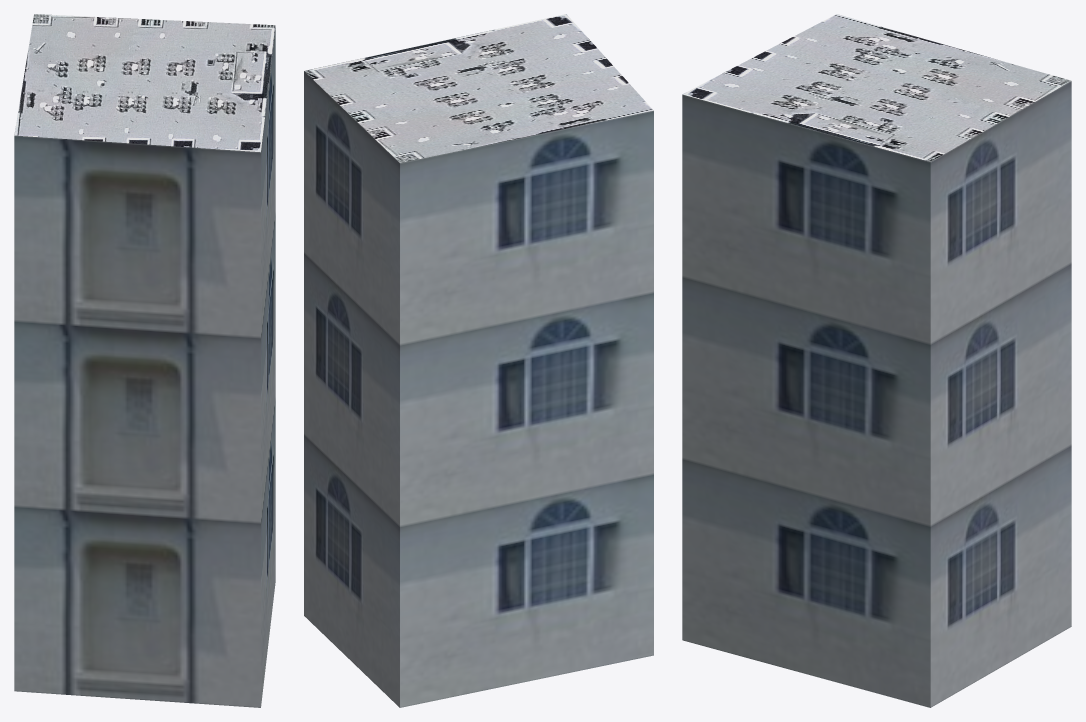
The model's file is ResTex__4495.fbx.
3 views of the same model, side by side, from view 1: azimuth 30°, elevation 25°; view 2: azimuth 150°, elevation 25°; view 3: azimuth 270°, elevation 25° (orthographic). The views are drawn at different scales.
Visible parts, largest first — view 1: CityEngineMaterial_17_m, CityEngineMaterial_m; view 2: CityEngineMaterial_17_m, CityEngineMaterial_m; view 3: CityEngineMaterial_17_m, CityEngineMaterial_m.
Boxes of the visible parts, x1,y1,x2,y2 form: CityEngineMaterial_17_m: (14, 27, 275, 707); CityEngineMaterial_m: (14, 14, 275, 152); CityEngineMaterial_17_m: (304, 71, 653, 707); CityEngineMaterial_m: (304, 14, 653, 162); CityEngineMaterial_17_m: (682, 81, 1071, 707); CityEngineMaterial_m: (682, 14, 1071, 161).
Size of the model in its own units: 5.24 by 9 by 5.82.
2 materials, 2 textured.
